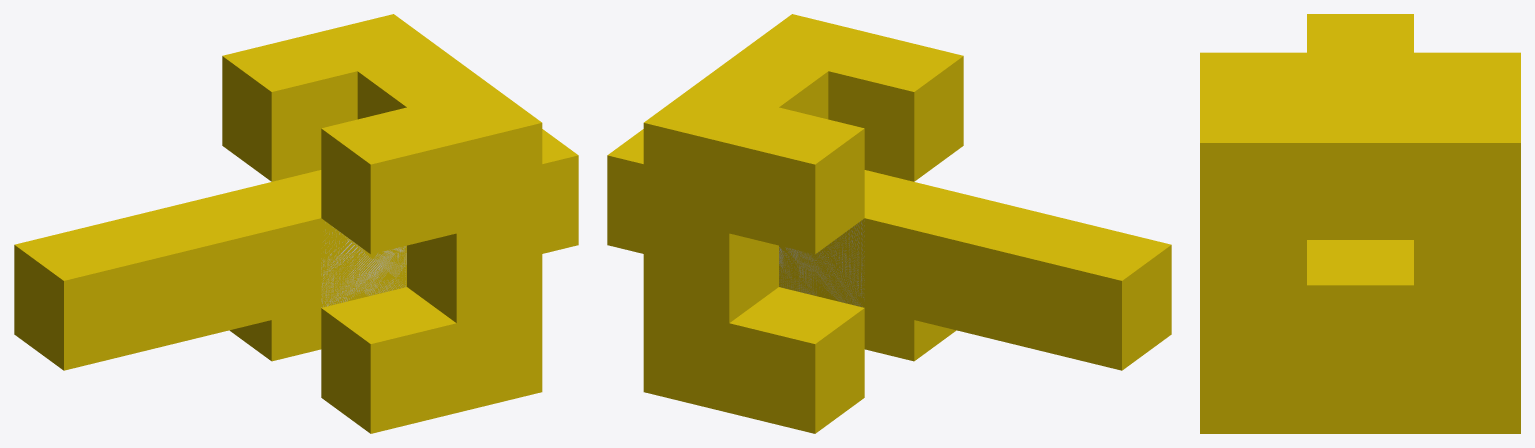
File: EnemyMissile.glb
3 views of the same model, side by side, from view 1: azimuth 30°, elevation 25°; view 2: azimuth 150°, elevation 25°; view 3: azimuth 270°, elevation 25° (orthographic). The views are drawn at different scales.
Parts seen in each view (by area): view 1: Cube.001, Cube; view 2: Cube.001, Cube; view 3: Cube.001.
Part boxes in pixels (x1=…): Cube.001: x1=14, y1=14, x2=578, y2=433; Cube: x1=321, y1=222, x2=406, y2=307; Cube.001: x1=607, y1=14, x2=1171, y2=433; Cube: x1=779, y1=220, x2=864, y2=306; Cube.001: x1=1200, y1=14, x2=1520, y2=433.
Size of the model in its own units: 12 by 6 by 6.
